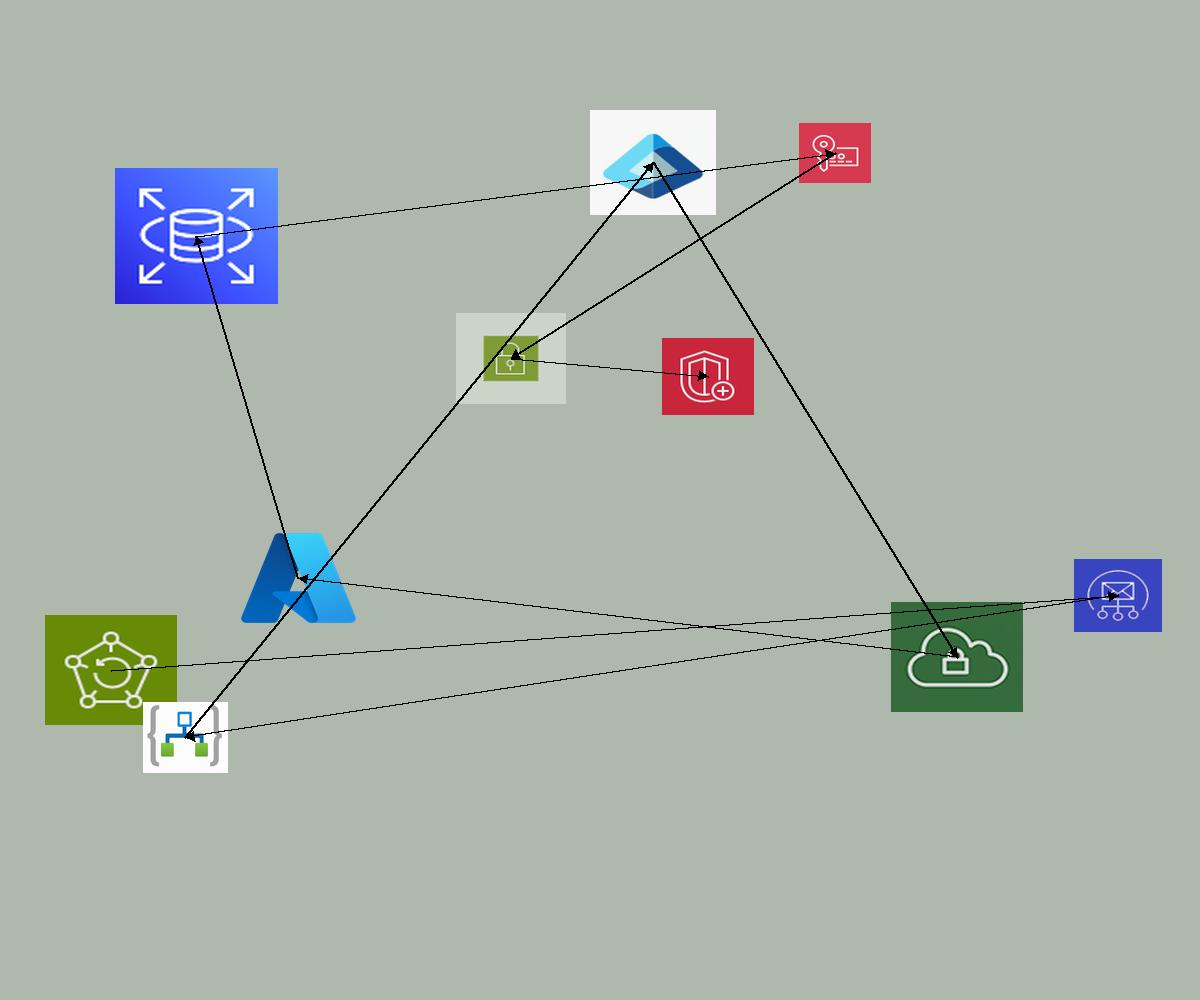AWS-Backup: (45, 615, 177, 725)
AWS-Key-Management-Service: (799, 123, 871, 183)
AWS-Private_vpc: (891, 602, 1023, 712)
AWS-Public-subnet: (456, 313, 566, 404)
AWS-RDS: (115, 168, 278, 304)
AWS-Shield: (662, 338, 754, 415)
AWS-Simple-Email-Service: (1074, 559, 1162, 632)
Azure_integration-204-Logic-Apps: (143, 702, 228, 773)
Azure_microsoft_entra: (590, 110, 716, 215)
Azure_services: (236, 526, 361, 630)
